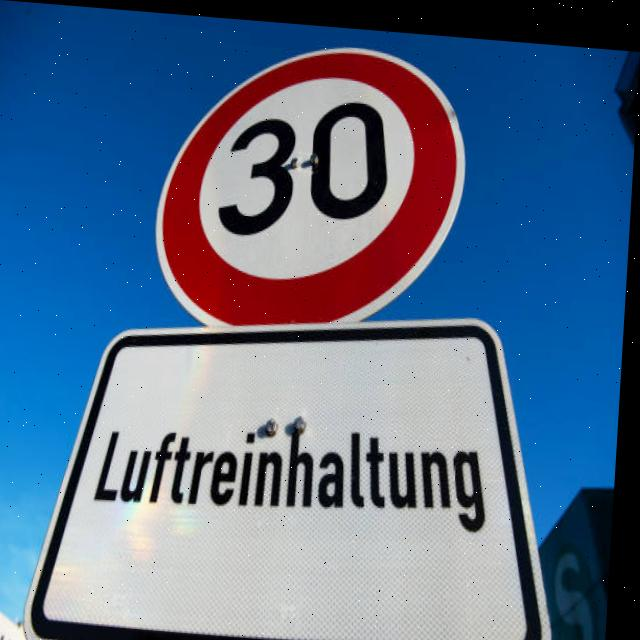Speed limit 30: (152, 27, 475, 340)
